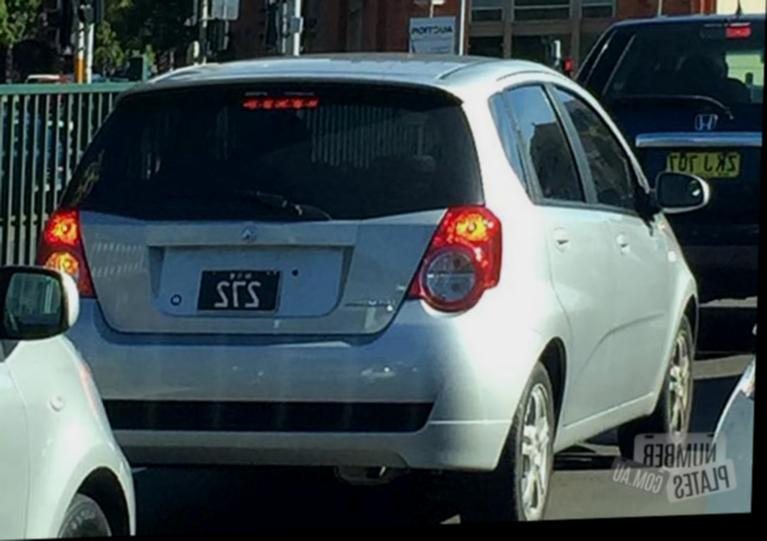License_Plate: (180, 255, 294, 326)
